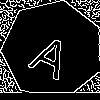A: (27, 25, 79, 81)
